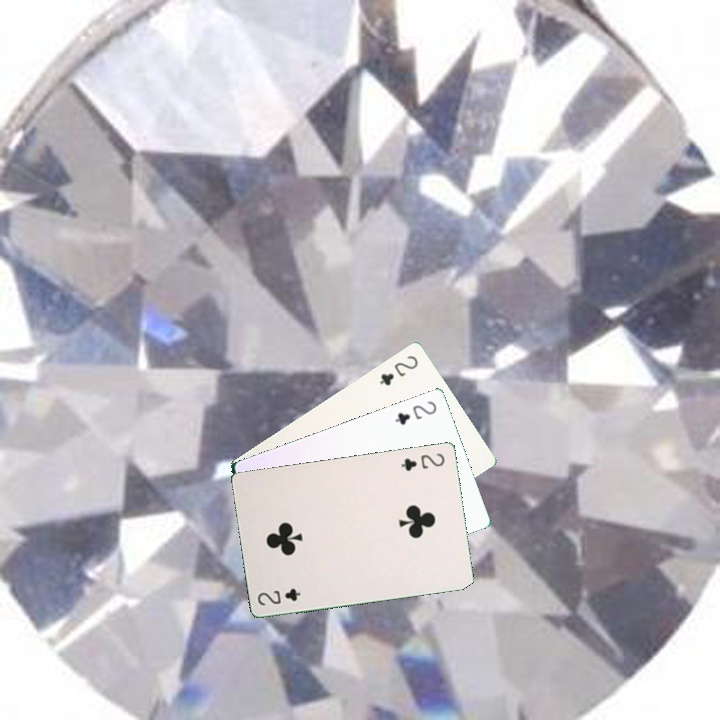2c: (375, 351, 421, 388), (391, 397, 439, 428), (397, 449, 447, 473), (253, 584, 303, 608)
